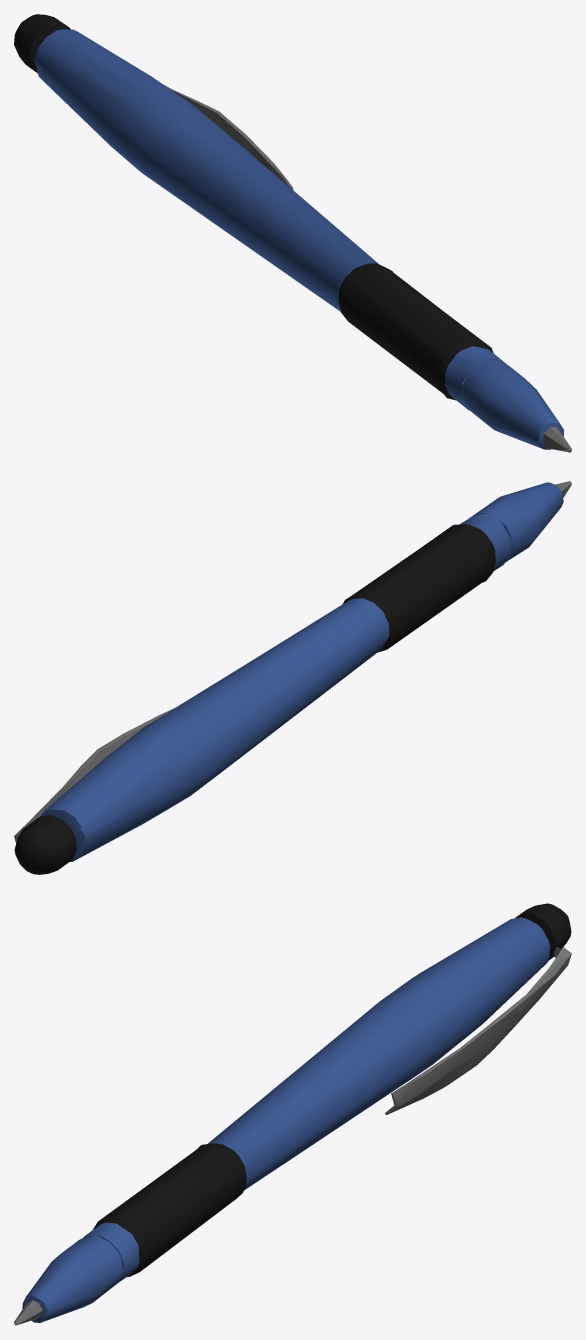
Rendered from Pen.FBX.
The picture shows the model from 3 angles, top to bottom: view 1: azimuth 30°, elevation 25°; view 2: azimuth 150°, elevation 25°; view 3: azimuth 330°, elevation 25°; orthographic projection. The views are drawn at different scales.
Visible parts, largest first — view 1: Pen; view 2: Pen; view 3: Pen.
Boxes of the visible parts, x1,y1,x2,y2 form: Pen: (14,14,571,452); Pen: (14,481,571,874); Pen: (14,903,571,1325).
Bounding box in the file's own units: 1.61 × 1.19 × 15.44.
1 material, 1 textured.
